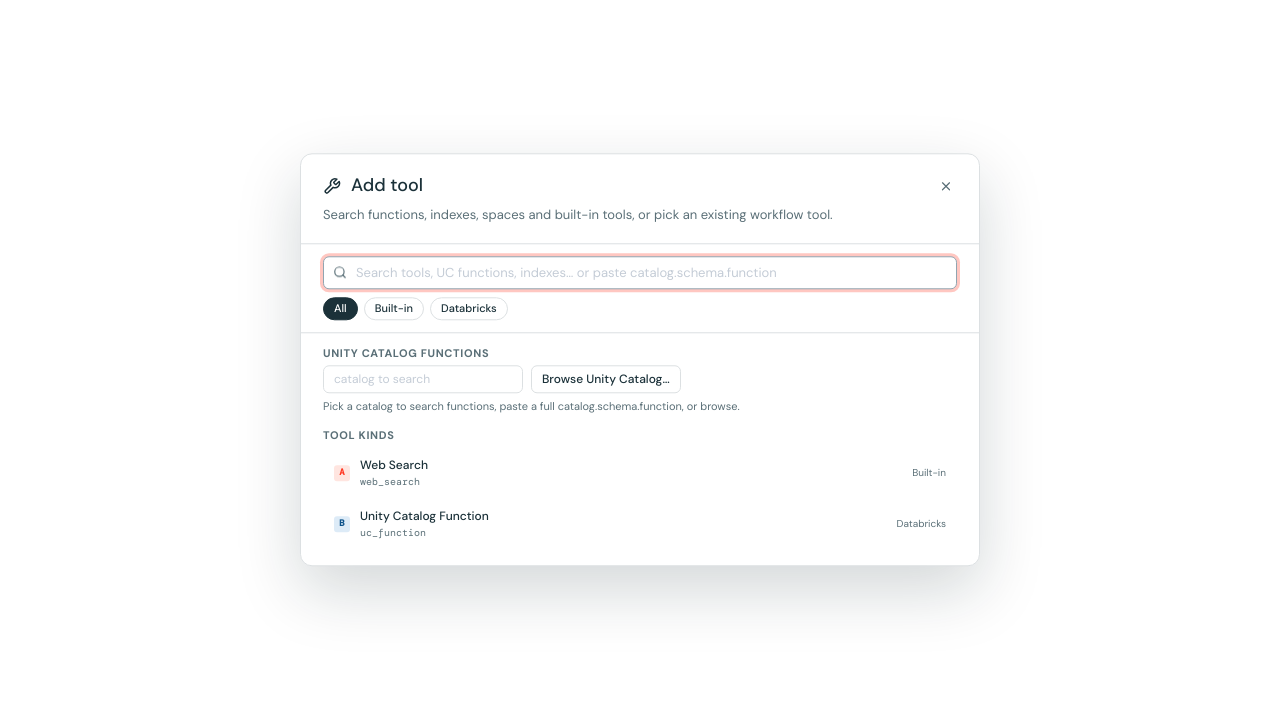
ToolDeclarationDialog (search-first) › surfaces the partial-result warning from the search response
Replace the text in the field labelled "Search tools" with "main.pct" at (640, 273), box 323,256 -> 957,289
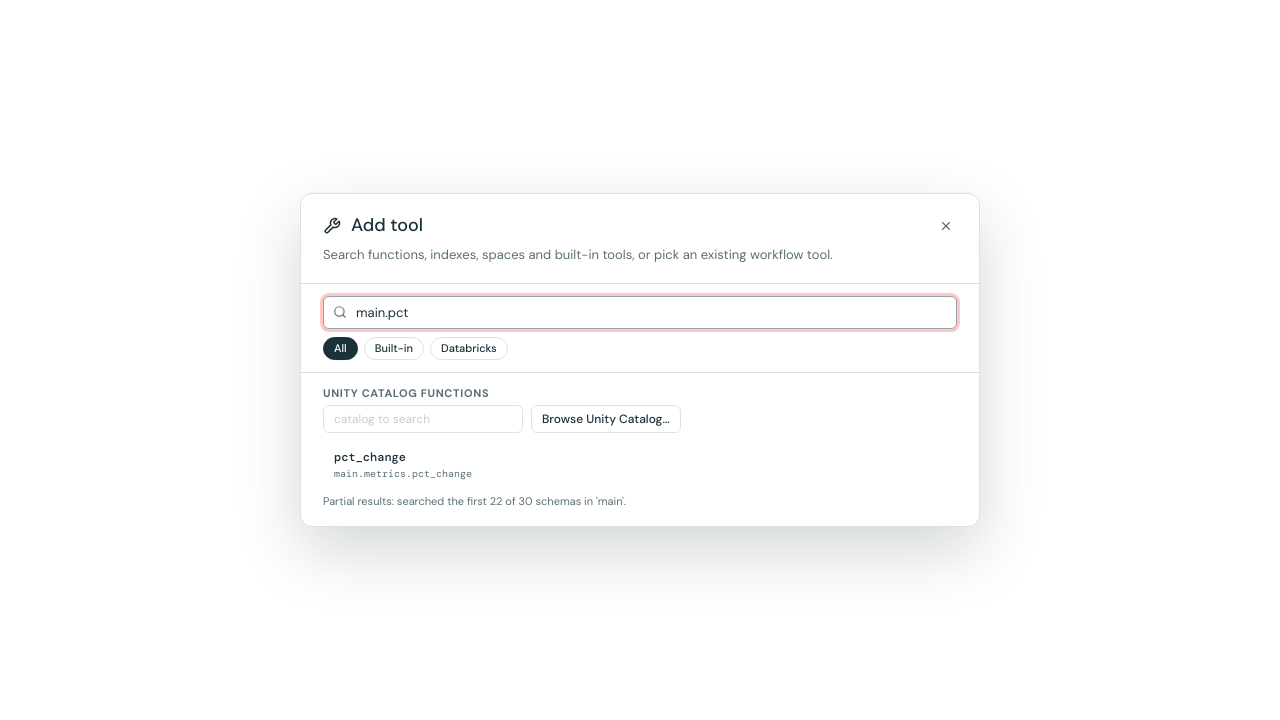
Now the text "Partial results: searched the first 22 of 30 schemas in 'main'." is shown, box 323,494 -> 626,508
